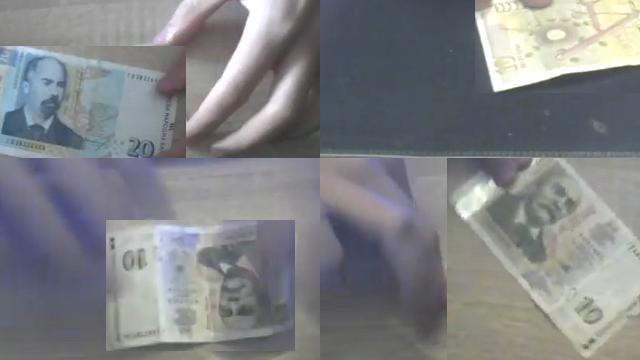10leva: (447, 158, 640, 360), (106, 220, 295, 351), (475, 0, 640, 93)
20leva: (0, 46, 186, 158)
